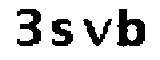3: (13, 6, 44, 49)
b: (112, 1, 151, 50)
s: (49, 16, 75, 50)
v: (80, 13, 112, 49)
